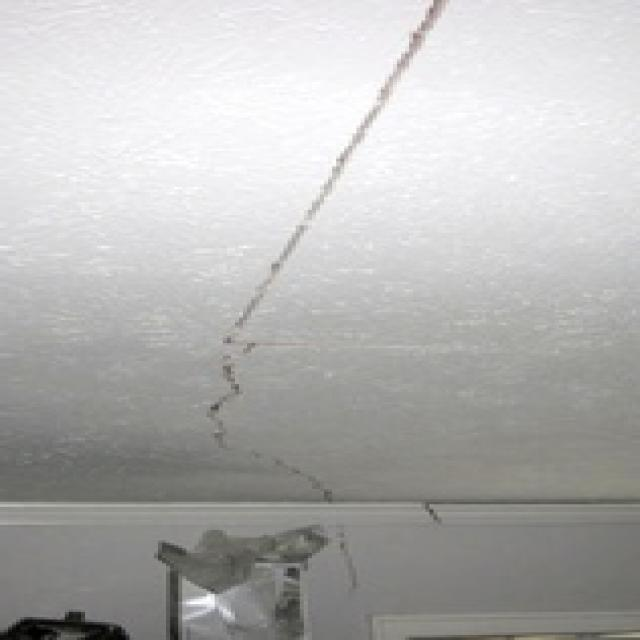Crack: (222, 0, 453, 338), (204, 341, 268, 452), (260, 449, 336, 502)
